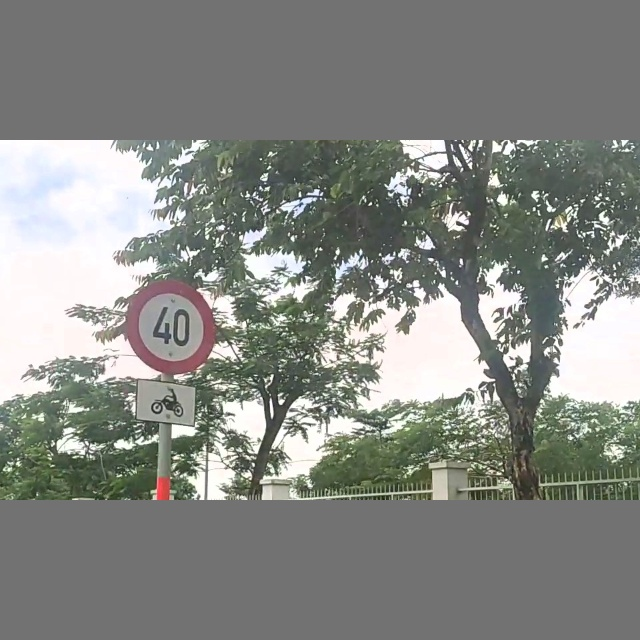P.127*40: (125, 276, 219, 379)
S.505a*Xe may: (131, 374, 203, 431)
